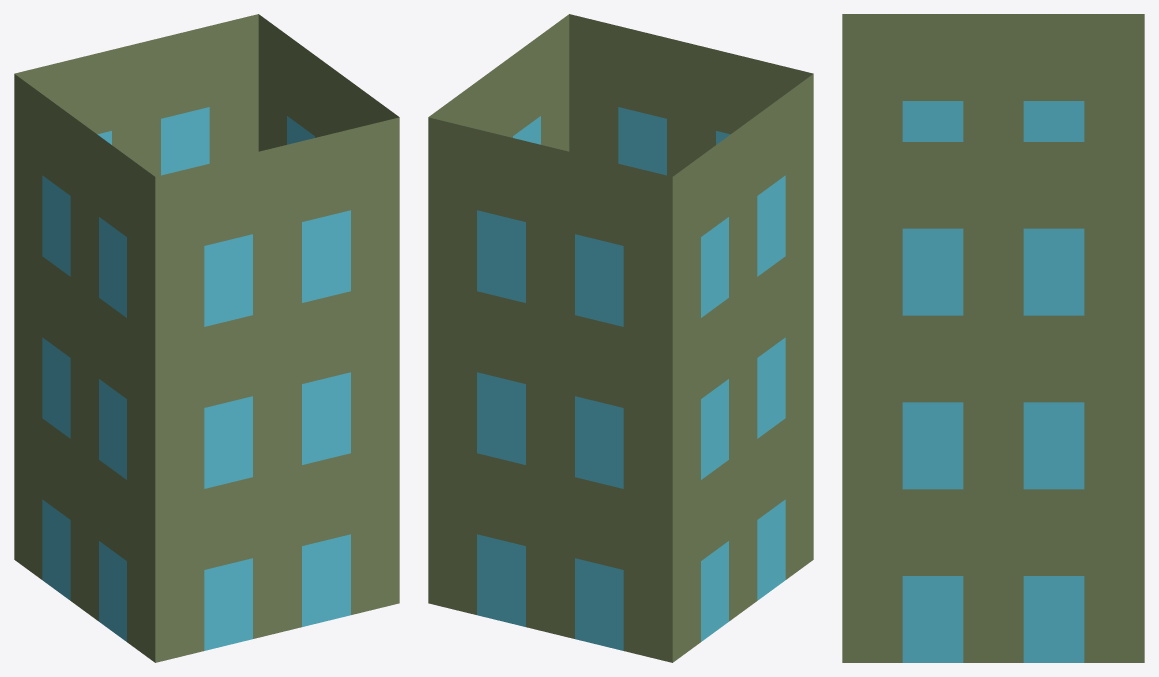
File: GreenHouse.fbx
3 renders of one model, left to right at view 1: azimuth 30°, elevation 25°; view 2: azimuth 150°, elevation 25°; view 3: azimuth 270°, elevation 25°, orthographic. The views are drawn at different scales.
Parts seen in each view (by area): view 1: House; view 2: House; view 3: House.
Part boxes in pixels (x1,y1,x2,y2): House: (14, 14, 399, 662); House: (428, 14, 813, 662); House: (842, 14, 1144, 662).
Size of the model in its own units: 300 by 570 by 300.
